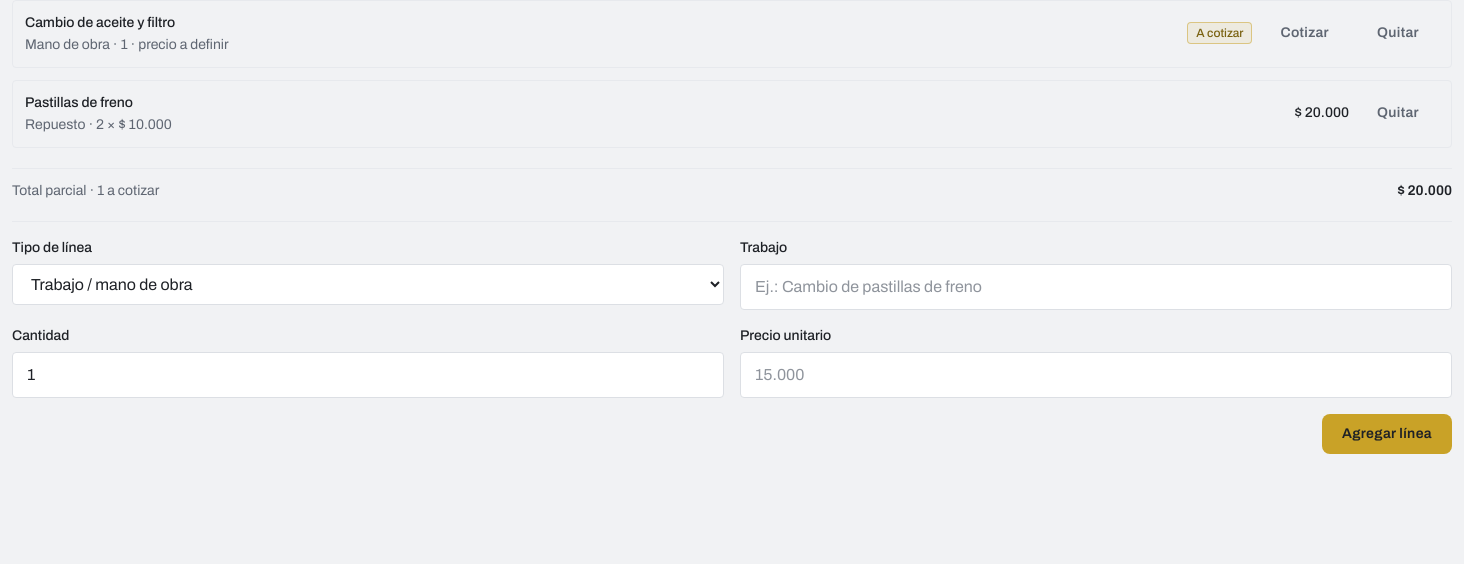
Líneas a cotizar en el detalle de la orden › el administrador también puede cotizar
The width and height of the screenshot is (1464, 564).
Click the button "Cotizar".
click(1305, 33)  # box [1260,13,1349,53]
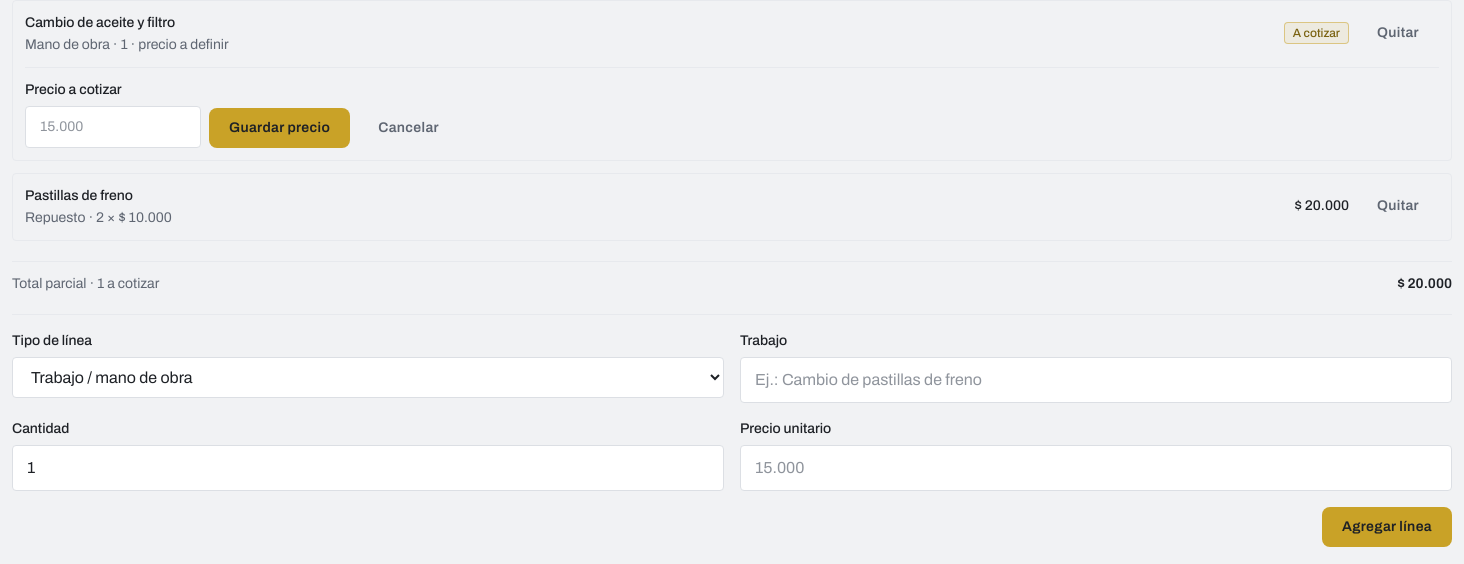
Now the field labelled "Precio a cotizar" is shown, box [25,106,201,148]
